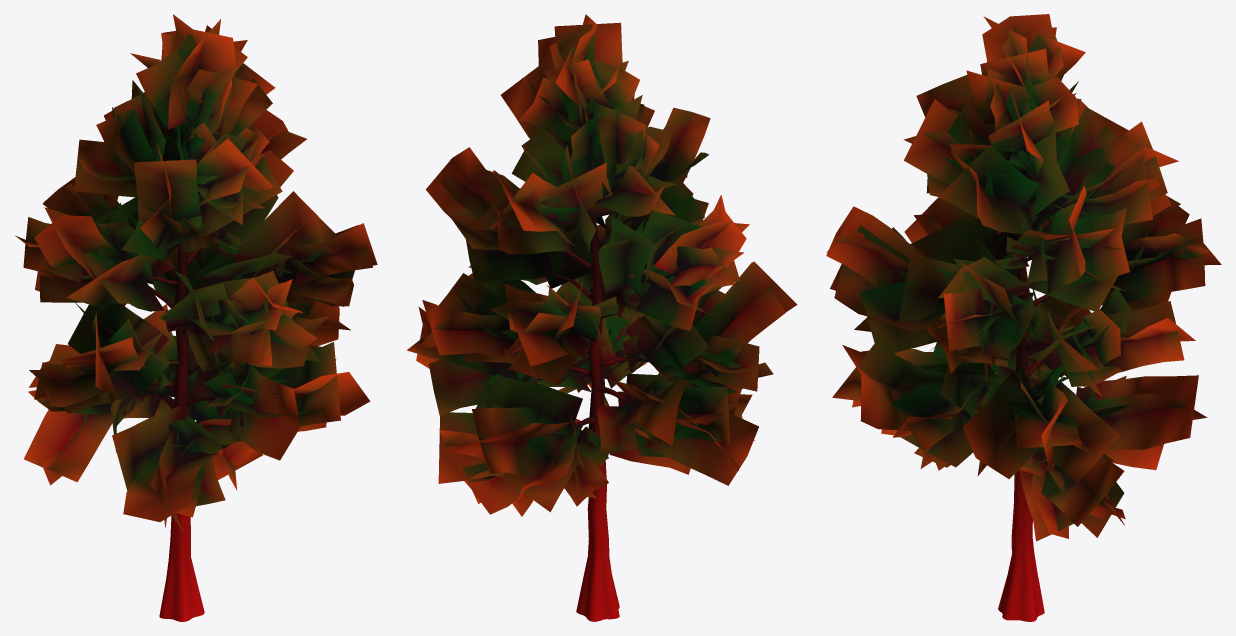
The model's file is BeecthTree04Fall.fbx.
3 renders of one model, left to right at view 1: azimuth 30°, elevation 25°; view 2: azimuth 150°, elevation 25°; view 3: azimuth 270°, elevation 25°, orthographic. The views are drawn at different scales.
Visible parts, largest first — view 1: BeecthTree04Fall_Leaves_LOD0, BeecthTree04Fall_Bark_LOD0; view 2: BeecthTree04Fall_Leaves_LOD0, BeecthTree04Fall_Bark_LOD0; view 3: BeecthTree04Fall_Leaves_LOD0, BeecthTree04Fall_Bark_LOD0.
Part boxes in pixels (x1,y1,x2,y2): BeecthTree04Fall_Leaves_LOD0: (15, 14, 377, 533); BeecthTree04Fall_Bark_LOD0: (109, 141, 279, 621); BeecthTree04Fall_Leaves_LOD0: (407, 14, 797, 516); BeecthTree04Fall_Bark_LOD0: (485, 216, 684, 621); BeecthTree04Fall_Leaves_LOD0: (826, 14, 1221, 541); BeecthTree04Fall_Bark_LOD0: (980, 146, 1119, 621).
Size of what is drawn, in the model's own units: 14.04 by 24.21 by 14.4.
